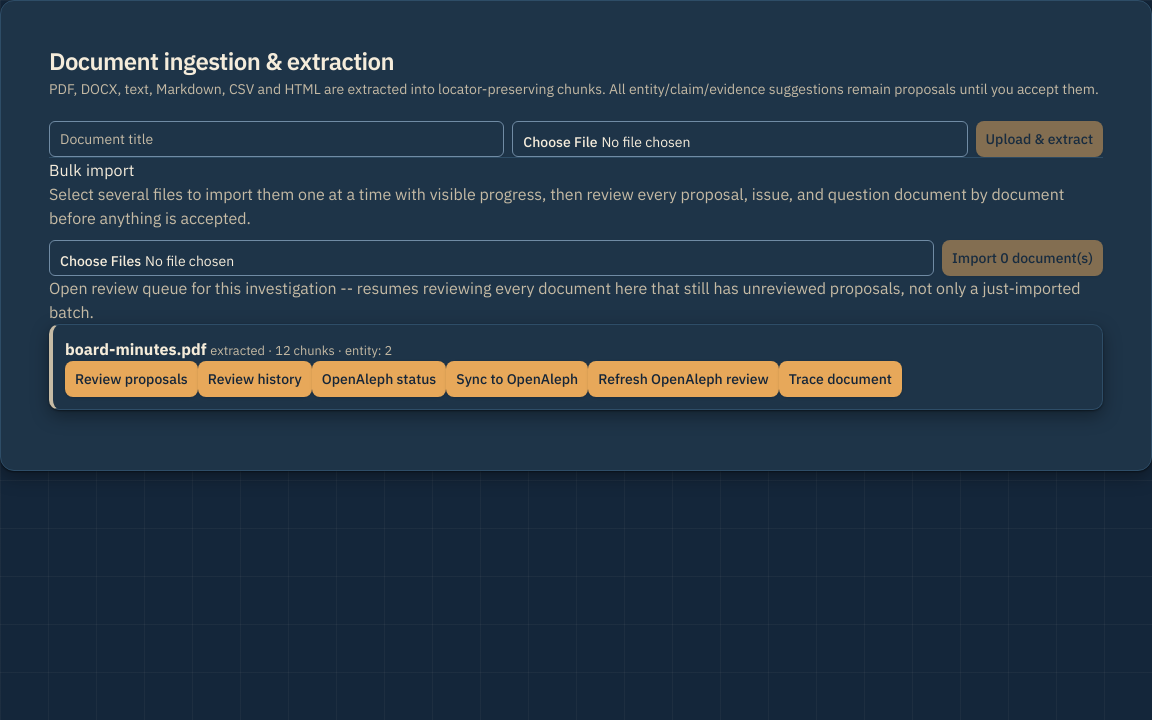
it: DocumentsPanel upload and review › accepts an entity proposal, reloads the documents and marks the entities stale
Expected: the text "board-minutes.pdf" is shown, [65, 339, 207, 359]
Click the button "Review proposals".
click(131, 379)  # box [65, 361, 198, 397]
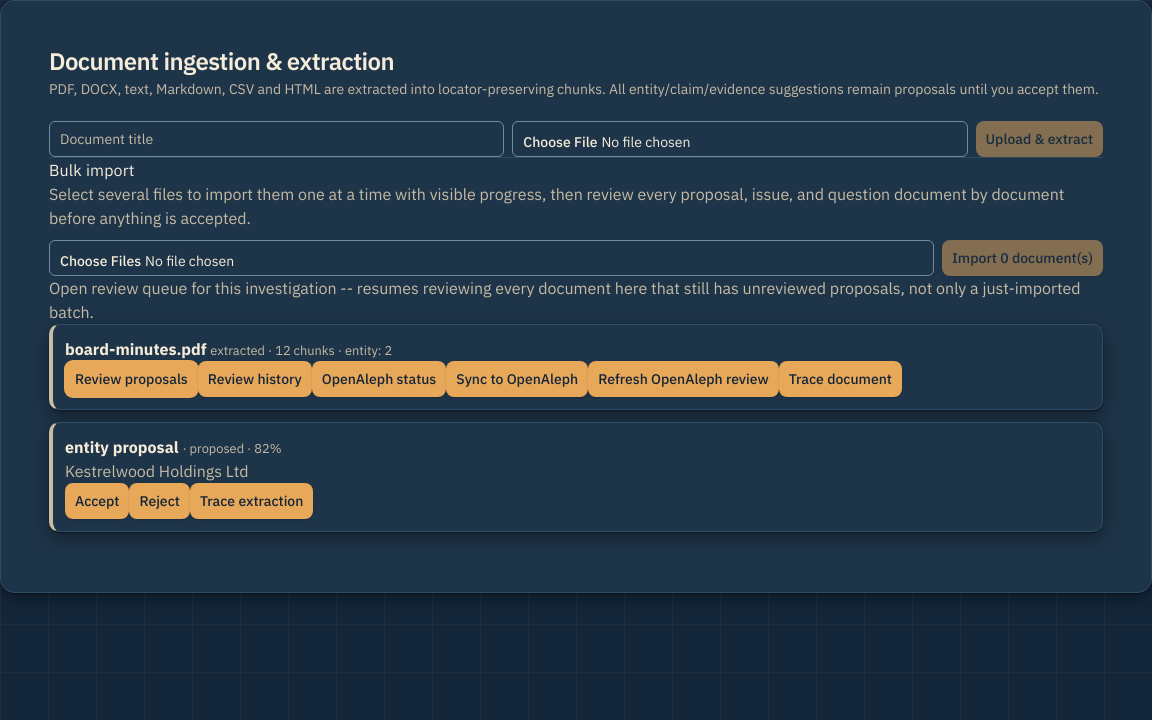
Now the text "Kestrelwood Holdings Ltd" is shown, box [65, 461, 249, 481]
Click the button "Accept".
click(97, 501)  # box [65, 483, 129, 519]
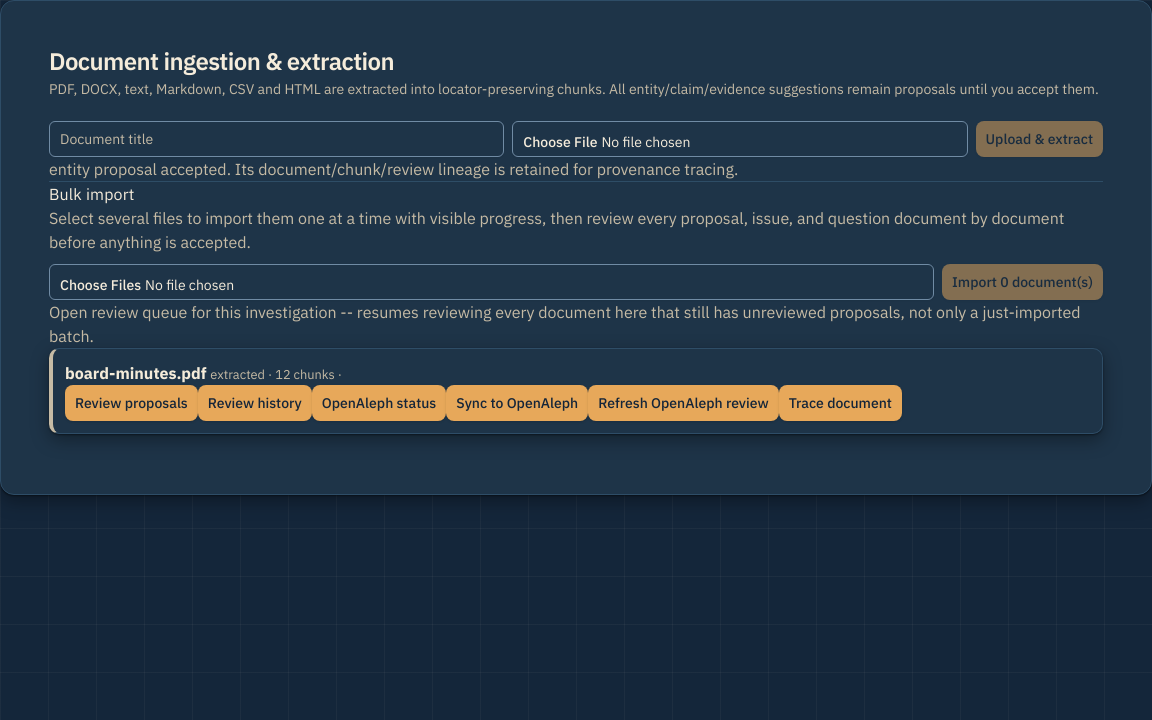
Now the text "entity proposal accepted. Its document/chunk/review lineage is retained for provenance tracing." is shown, box [49, 159, 738, 179]
Now the text "Kestrelwood Holdings Ltd" is gone
